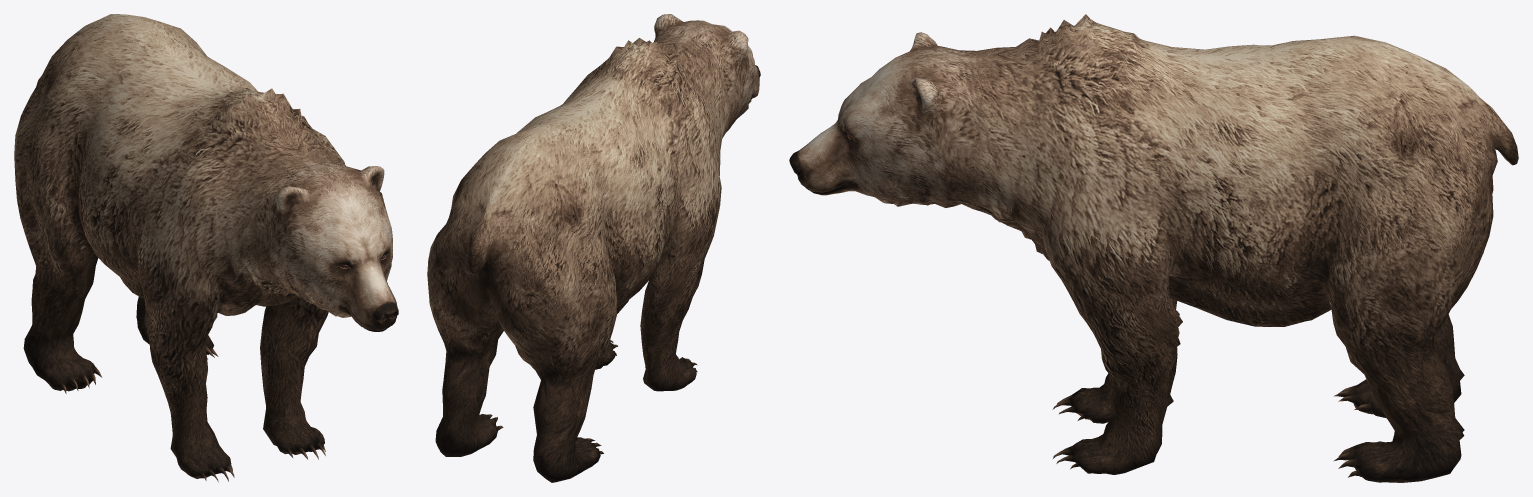
3 renders of one model, left to right at view 1: azimuth 30°, elevation 25°; view 2: azimuth 150°, elevation 25°; view 3: azimuth 270°, elevation 25°, orthographic. The views are drawn at different scales.
Visible parts, largest first — view 1: sm_3_0_0, sm_1_0_0; view 2: sm_3_0_0, sm_1_0_0; view 3: sm_3_0_0, sm_1_0_0.
Boxes of the visible parts, x1,y1,x2,y2 form: sm_3_0_0: (14,14,345,482); sm_1_0_0: (257,159,398,331); sm_3_0_0: (427,38,731,482); sm_1_0_0: (654,14,760,132); sm_3_0_0: (964,14,1518,482); sm_1_0_0: (789,32,978,208).
Size of the model in its own units: 0.8916 by 1.7 by 2.64.
3 materials, 3 textured.
